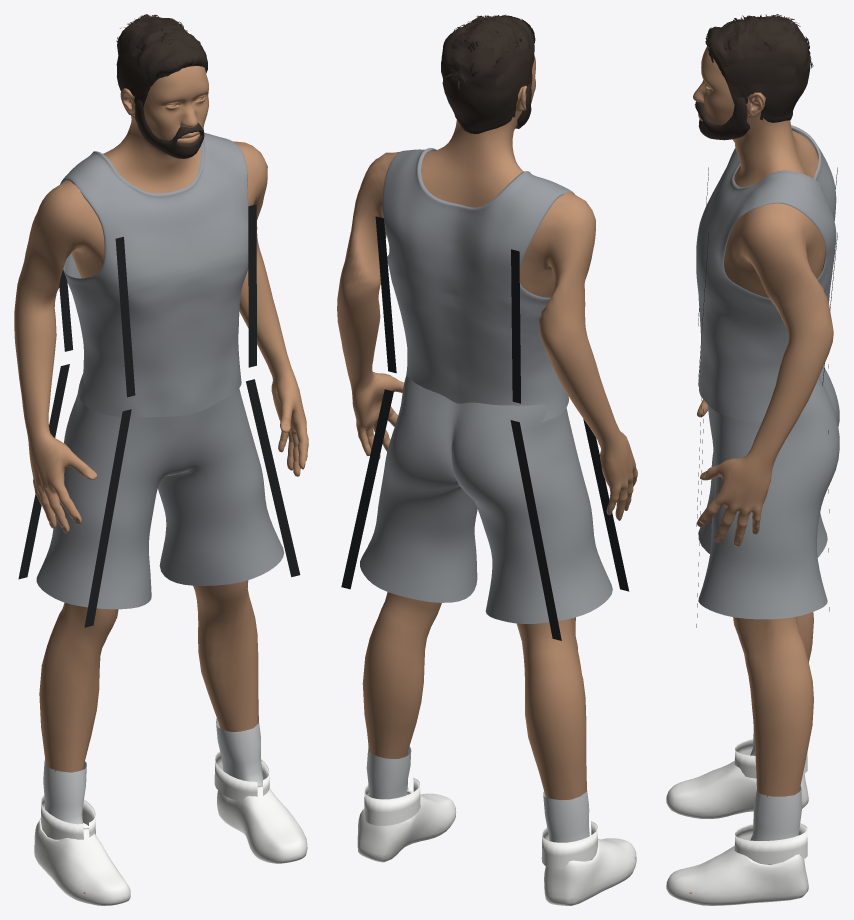
File: mskba-male-player-v1.glb
3 views of the same model, side by side, from view 1: azimuth 30°, elevation 25°; view 2: azimuth 150°, elevation 25°; view 3: azimuth 270°, elevation 25° (orthographic). The views are drawn at different scales.
Visible parts, largest first — view 1: Body, MSKBA_Uniform_Jersey_Mesh, MSKBA_Uniform_Shorts_Mesh, MSKBA_Shoes_Primary_Mesh, MSKBA_Hair_Male_Fade_Mesh, MSKBA_Shoes_Accent_Mesh, MSKBA_Beard_Short_Mesh; view 2: Body, MSKBA_Uniform_Shorts_Mesh, MSKBA_Uniform_Jersey_Mesh, MSKBA_Shoes_Primary_Mesh, MSKBA_Hair_Male_Fade_Mesh, MSKBA_Shoes_Accent_Mesh; view 3: Body, MSKBA_Uniform_Shorts_Mesh, MSKBA_Uniform_Jersey_Mesh, MSKBA_Shoes_Primary_Mesh, MSKBA_Hair_Male_Fade_Mesh, MSKBA_Shoes_Accent_Mesh, MSKBA_Beard_Short_Mesh.
Part boxes in pixels (x1=…): Body: x1=14, y1=66, x2=308, y2=893; MSKBA_Uniform_Jersey_Mesh: x1=59, y1=133, x2=256, y2=417; MSKBA_Uniform_Shorts_Mesh: x1=18, y1=364, x2=300, y2=627; MSKBA_Shoes_Primary_Mesh: x1=34, y1=718, x2=307, y2=905; MSKBA_Hair_Male_Fade_Mesh: x1=116, y1=14, x2=207, y2=116; MSKBA_Shoes_Accent_Mesh: x1=41, y1=751, x2=269, y2=839; MSKBA_Beard_Short_Mesh: x1=134, y1=99, x2=204, y2=158; Body: x1=337, y1=55, x2=637, y2=860; MSKBA_Uniform_Shorts_Mesh: x1=341, y1=375, x2=629, y2=640; MSKBA_Uniform_Jersey_Mesh: x1=375, y1=148, x2=574, y2=422; MSKBA_Shoes_Primary_Mesh: x1=357, y1=746, x2=636, y2=905; MSKBA_Hair_Male_Fade_Mesh: x1=441, y1=14, x2=535, y2=133; MSKBA_Shoes_Accent_Mesh: x1=364, y1=777, x2=597, y2=869; Body: x1=689, y1=46, x2=833, y2=893; MSKBA_Uniform_Shorts_Mesh: x1=696, y1=364, x2=839, y2=627; MSKBA_Uniform_Jersey_Mesh: x1=696, y1=125, x2=837, y2=422; MSKBA_Shoes_Primary_Mesh: x1=666, y1=729, x2=808, y2=905; MSKBA_Hair_Male_Fade_Mesh: x1=705, y1=14, x2=813, y2=122; MSKBA_Shoes_Accent_Mesh: x1=734, y1=738, x2=807, y2=864; MSKBA_Beard_Short_Mesh: x1=694, y1=97, x2=749, y2=140.
Size of the model in its own units: 0.5838 by 1.76 by 0.3319.
